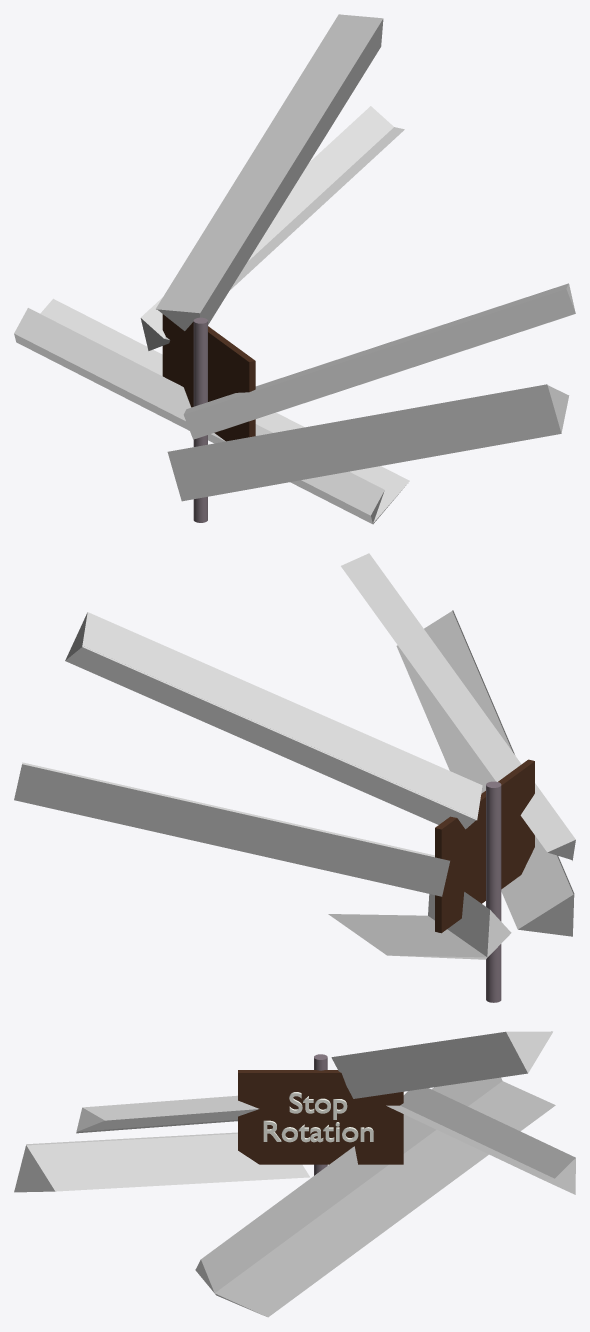
File: sign.glb
3 views of the same model, one above another, from view 1: azimuth 30°, elevation 25°; view 2: azimuth 150°, elevation 25°; view 3: azimuth 270°, elevation 25° (orthographic). The views are drawn at different scales.
Visible parts, largest first — view 1: CMT_Line.003, CMT_Line.002, CMT_Line.004, CMT_Line.001, CMT_Line, Cube, Cylinder; view 2: CMT_Line.002, CMT_Line, CMT_Line.003, CMT_Line.001, Cube, CMT_Line.004, Cylinder; view 3: CMT_Line.004, Cube, CMT_Line.003, CMT_Line.002, CMT_Line, CMT_Line.001, Object.
Part boxes in pixels (left/top/right/bottom): CMT_Line.003: left=167, top=384, right=569, bottom=501; CMT_Line.002: left=156, top=14, right=383, bottom=330; CMT_Line.004: left=14, top=298, right=409, bottom=524; CMT_Line.001: left=183, top=283, right=575, bottom=439; CMT_Line: left=140, top=106, right=404, bottom=350; Cube: left=162, top=314, right=255, bottom=441; Cylinder: left=193, top=317, right=207, bottom=522; CMT_Line.002: left=65, top=612, right=482, bottom=829; CMT_Line: left=14, top=762, right=449, bottom=896; CMT_Line.003: left=396, top=610, right=574, bottom=936; CMT_Line.001: left=341, top=553, right=575, bottom=860; Cube: left=435, top=759, right=534, bottom=933; CMT_Line.004: left=328, top=892, right=511, bottom=959; Cylinder: left=486, top=781, right=501, bottom=1002; CMT_Line.004: left=195, top=1077, right=555, bottom=1317; Cube: left=238, top=1070, right=403, bottom=1164; CMT_Line.003: left=14, top=1132, right=309, bottom=1192; CMT_Line.002: left=331, top=1031, right=552, bottom=1098; CMT_Line: left=386, top=1088, right=575, bottom=1194; CMT_Line.001: left=76, top=1095, right=258, bottom=1133; Object: left=263, top=1092, right=373, bottom=1142.
Bounding box in the file's own units: 6.82 × 5.59 × 8.23.
